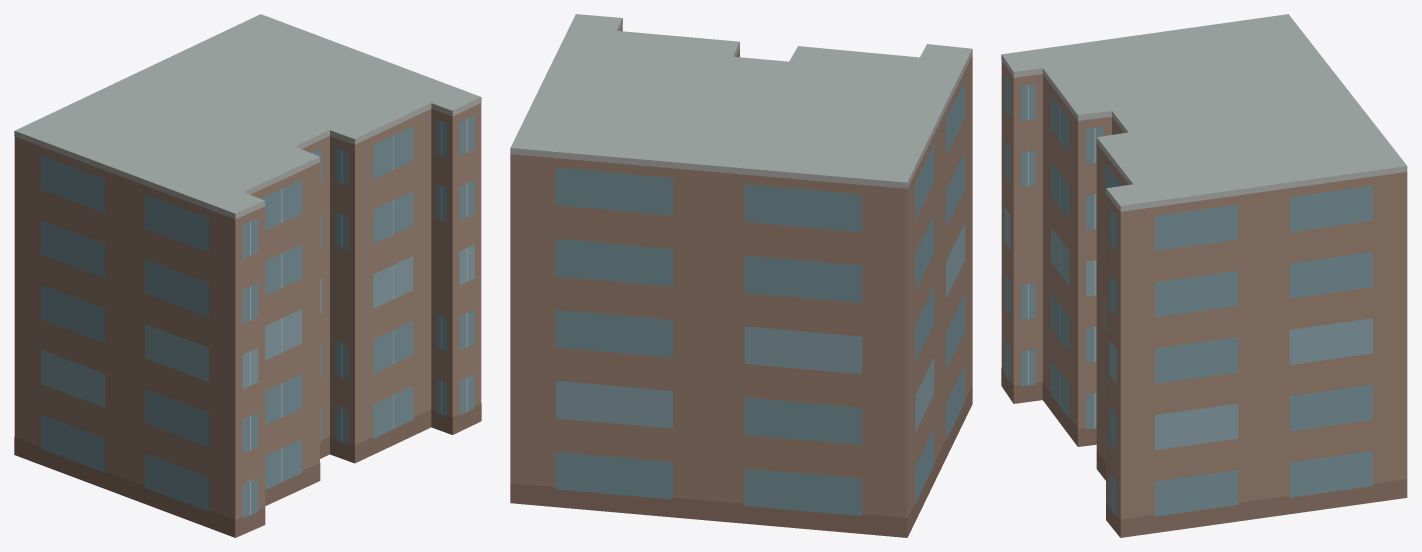
Rendered from survey-upis-32703336.glb.
The picture shows the model from 3 angles, left to right: view 1: azimuth 30°, elevation 25°; view 2: azimuth 150°, elevation 25°; view 3: azimuth 270°, elevation 25°; orthographic projection. The views are drawn at different scales.
Visible parts, largest first — view 1: survey-upis-32703336.tmp; view 2: survey-upis-32703336.tmp; view 3: survey-upis-32703336.tmp.
Part boxes in pixels (<box>): survey-upis-32703336.tmp: <box>14,14,481,537</box>; survey-upis-32703336.tmp: <box>510,14,972,537</box>; survey-upis-32703336.tmp: <box>1001,14,1407,537</box>.
Bounding box in the file's own units: 17.4 × 14 × 15.53.
